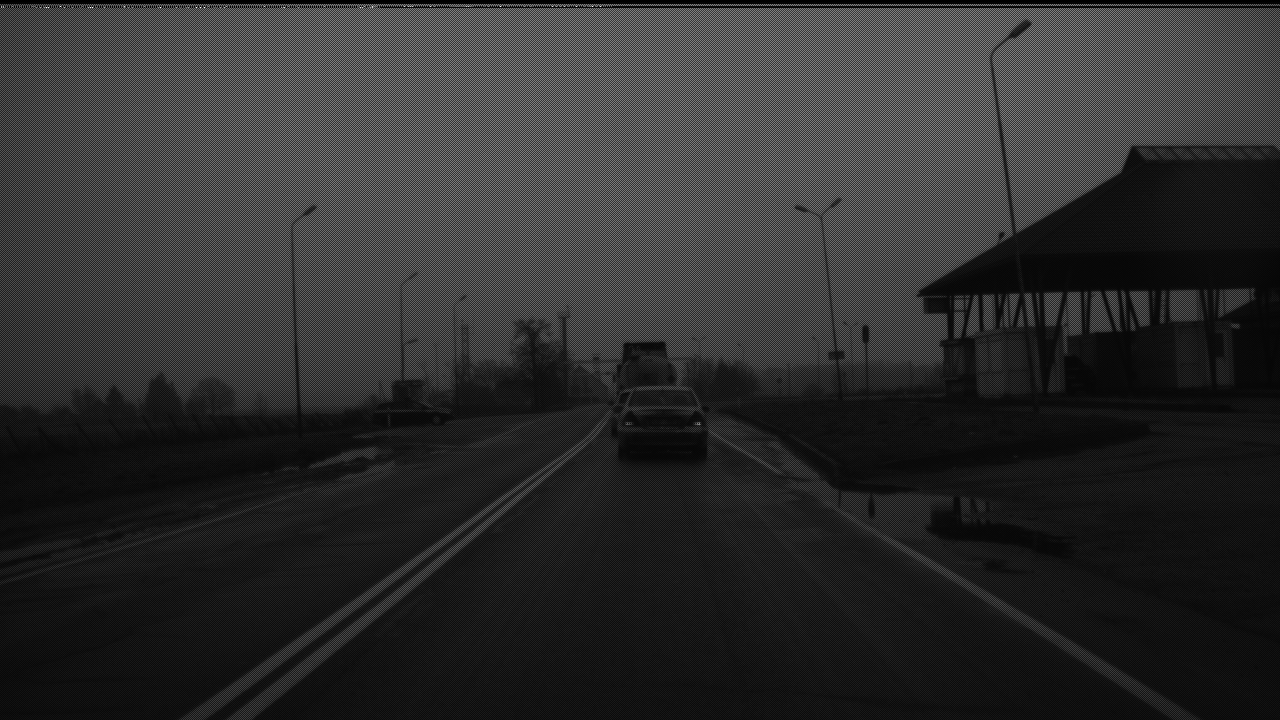pole: (987, 51, 1040, 416), (818, 216, 845, 402), (287, 221, 306, 437), (396, 282, 408, 379)
